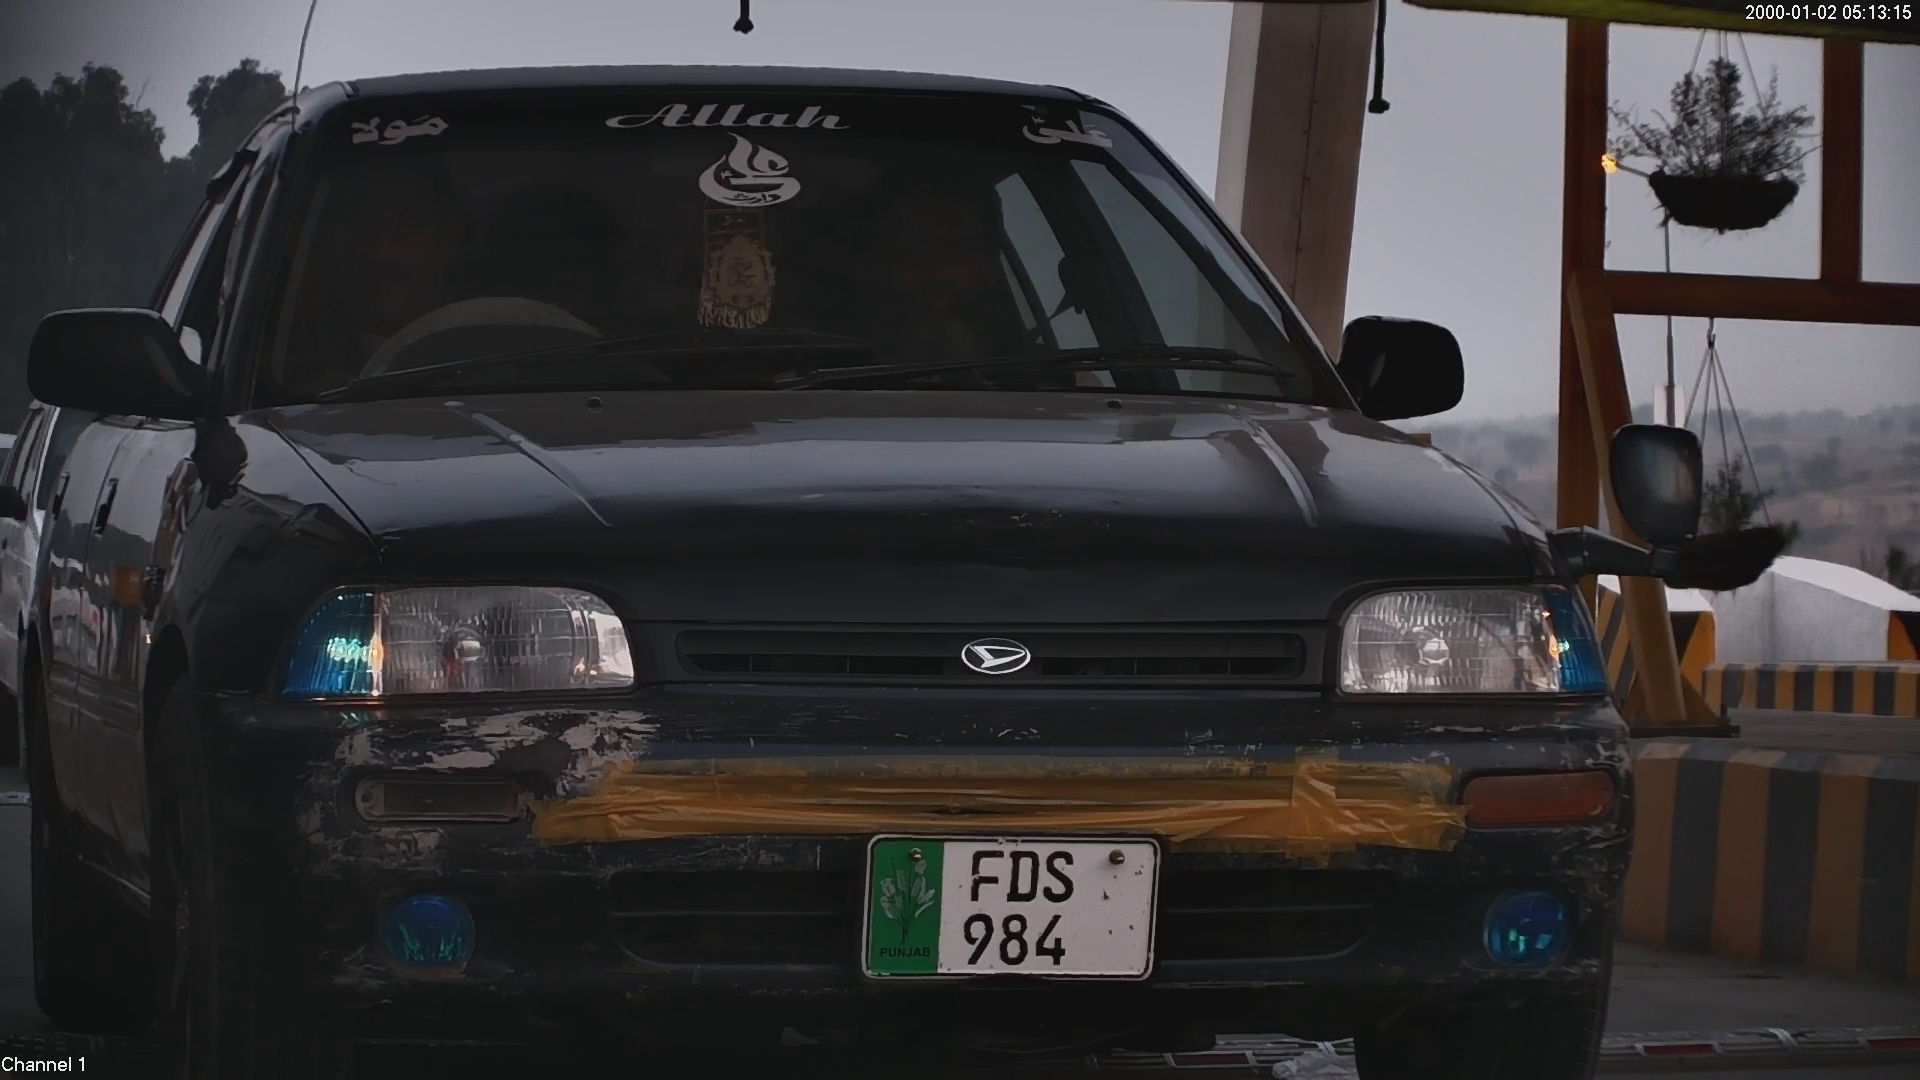Number_Plate: (849, 818, 1173, 995)
